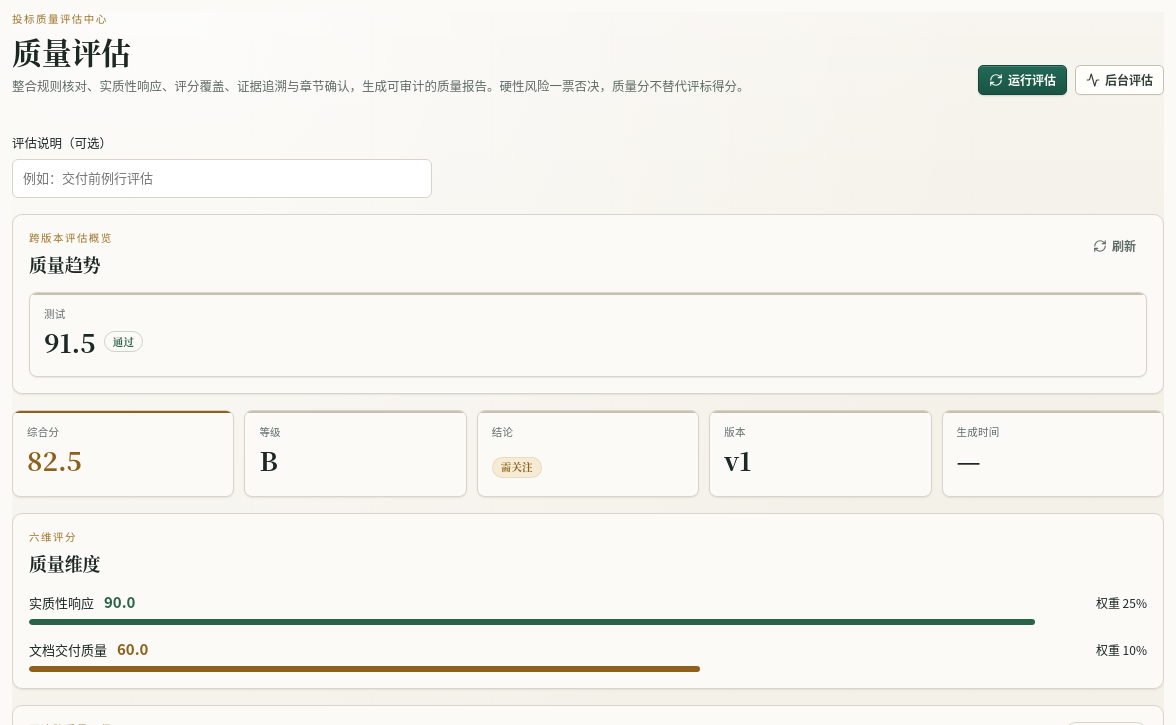
QualityTab › runs a new evaluation and shows updated version
Expected: the text "实质性响应" is shown, [29,593,94,614]
Step 1. Type "交付前" into the field with placeholder "例如：交付前例行评估" → (222, 179), box [12,159,432,198]
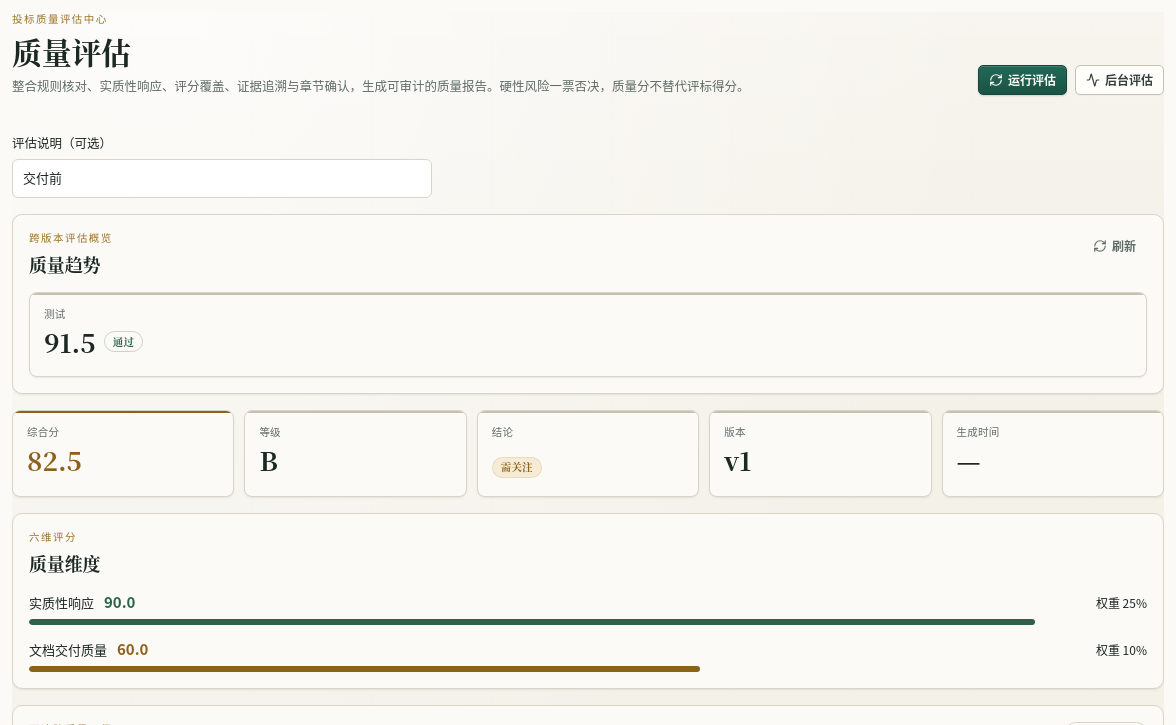
Step 2. Click the button "运行评估" → click(1022, 80), box [978,65,1067,95]
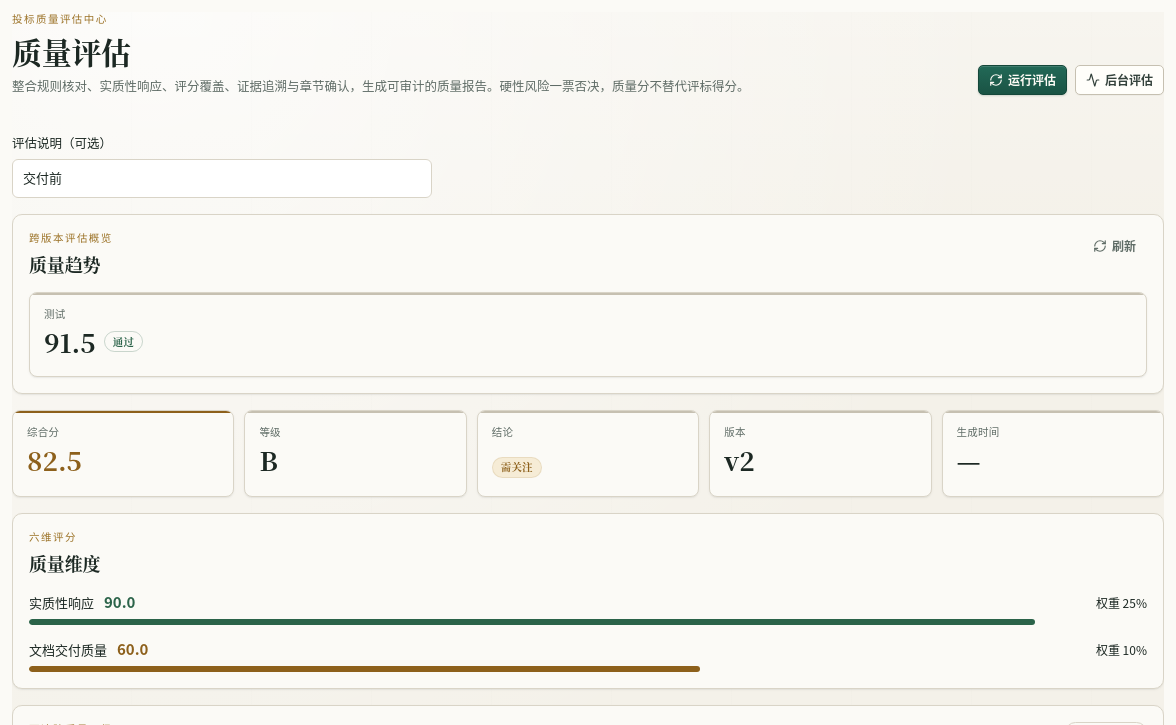
Expected: the text "v2" is shown, [724,441,755,478]
